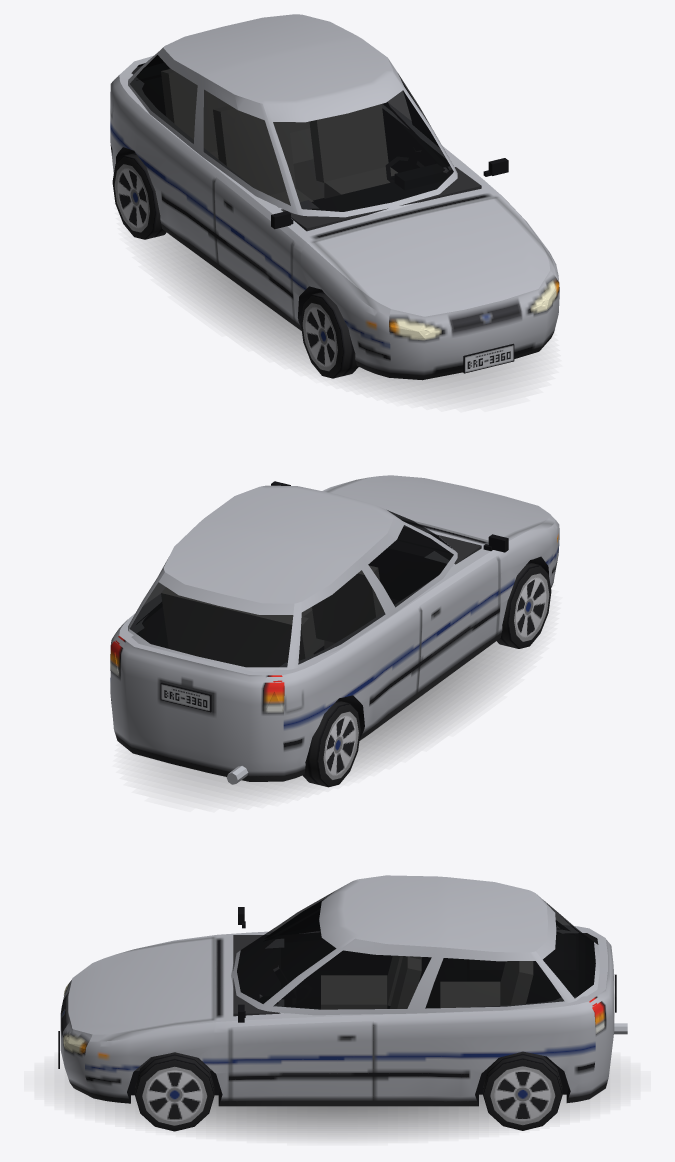
Rendered from brigadeiro.glb.
The picture shows the model from 3 angles, top to bottom: view 1: azimuth 30°, elevation 25°; view 2: azimuth 150°, elevation 25°; view 3: azimuth 270°, elevation 25°; orthographic projection. The views are drawn at different scales.
Parts seen in each view (by area): view 1: Carroceria, Interior, Capo_malha, Porta_D_malha, Sombra, Roda_DD, Roda_TD, Porta_E_malha, Farol; view 2: Carroceria, Tampa_malha, Interior, Porta_D_malha, Sombra, Capo_malha, Roda_TD, Roda_DD; view 3: Carroceria, Interior, Porta_E_malha, Capo_malha, Sombra, Tampa_malha, Roda_TE, Roda_DE, Porta_D_malha.
Boxes of the visible parts, box(x1,y1,x2,y2) form: Carroceria: box(110, 14, 559, 380); Interior: box(131, 63, 481, 231); Capo_malha: box(313, 197, 555, 316); Porta_D_malha: box(213, 98, 297, 318); Sombra: box(146, 233, 532, 396); Roda_DD: box(300, 292, 358, 378); Roda_TD: box(112, 153, 166, 239); Porta_E_malha: box(390, 64, 508, 176); Farol: box(390, 283, 559, 339); Carroceria: box(110, 478, 559, 784); Tampa_malha: box(120, 572, 294, 761); Interior: box(137, 527, 481, 666); Porta_D_malha: box(390, 518, 508, 690); Sombra: box(142, 641, 525, 796); Capo_malha: box(327, 475, 555, 541); Roda_TD: box(302, 700, 360, 787); Roda_DD: box(497, 562, 551, 648); Carroceria: box(58, 875, 627, 1106); Interior: box(135, 909, 598, 1070); Porta_E_malha: box(230, 938, 373, 1098); Capo_malha: box(73, 937, 214, 1041); Sombra: box(64, 1071, 610, 1137); Tampa_malha: box(536, 894, 616, 1072); Roda_TE: box(483, 1051, 562, 1130); Roda_DE: box(135, 1052, 214, 1131); Porta_D_malha: box(238, 900, 322, 937).
Bounding box in the file's own units: 2.36 × 1.47 × 4.87.
12 materials, 6 textured.
